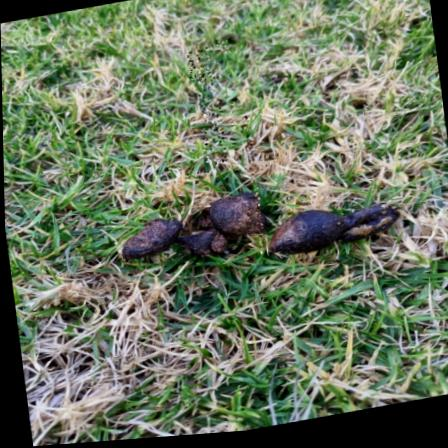dog-poop: (108, 184, 272, 281), (279, 195, 398, 261)
